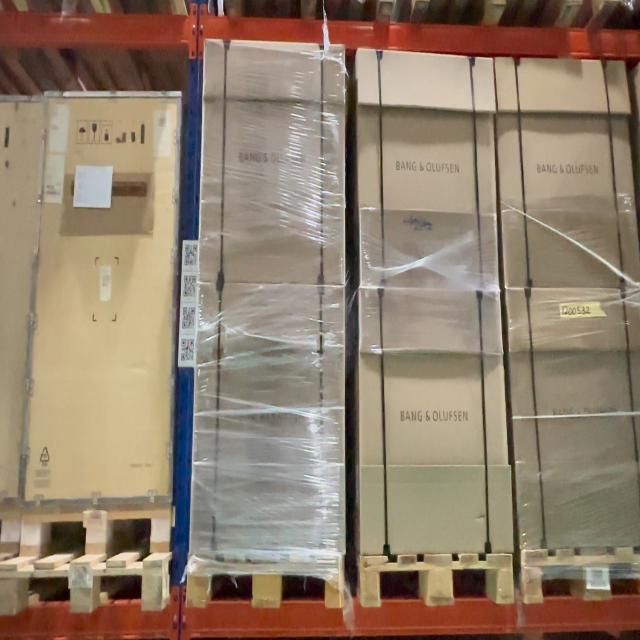box: (46, 92, 170, 500), (198, 287, 342, 557), (358, 290, 501, 554), (204, 50, 345, 286), (520, 292, 640, 549), (358, 54, 492, 282), (504, 59, 628, 290)
